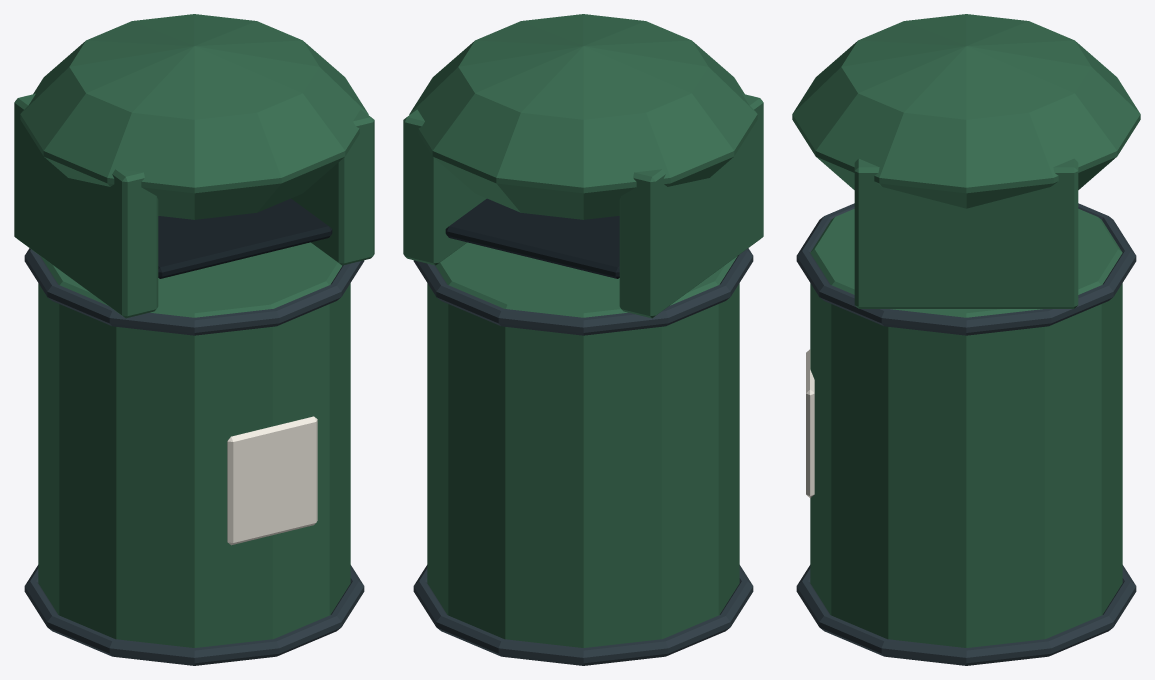
The model's file is b04_hooded_side_entry_street_bin.glb.
3 renders of one model, left to right at view 1: azimuth 30°, elevation 25°; view 2: azimuth 150°, elevation 25°; view 3: azimuth 270°, elevation 25°, orthographic.
Visible parts, largest first — view 1: b04_hooded_side_entry_street_bin; view 2: b04_hooded_side_entry_street_bin; view 3: b04_hooded_side_entry_street_bin.
Part boxes in pixels (<box>): b04_hooded_side_entry_street_bin: <box>14,14,374,665</box>; b04_hooded_side_entry_street_bin: <box>403,14,763,665</box>; b04_hooded_side_entry_street_bin: <box>792,14,1140,665</box>.
Bounding box in the file's own units: 0.6689 × 1.17 × 0.6689.
